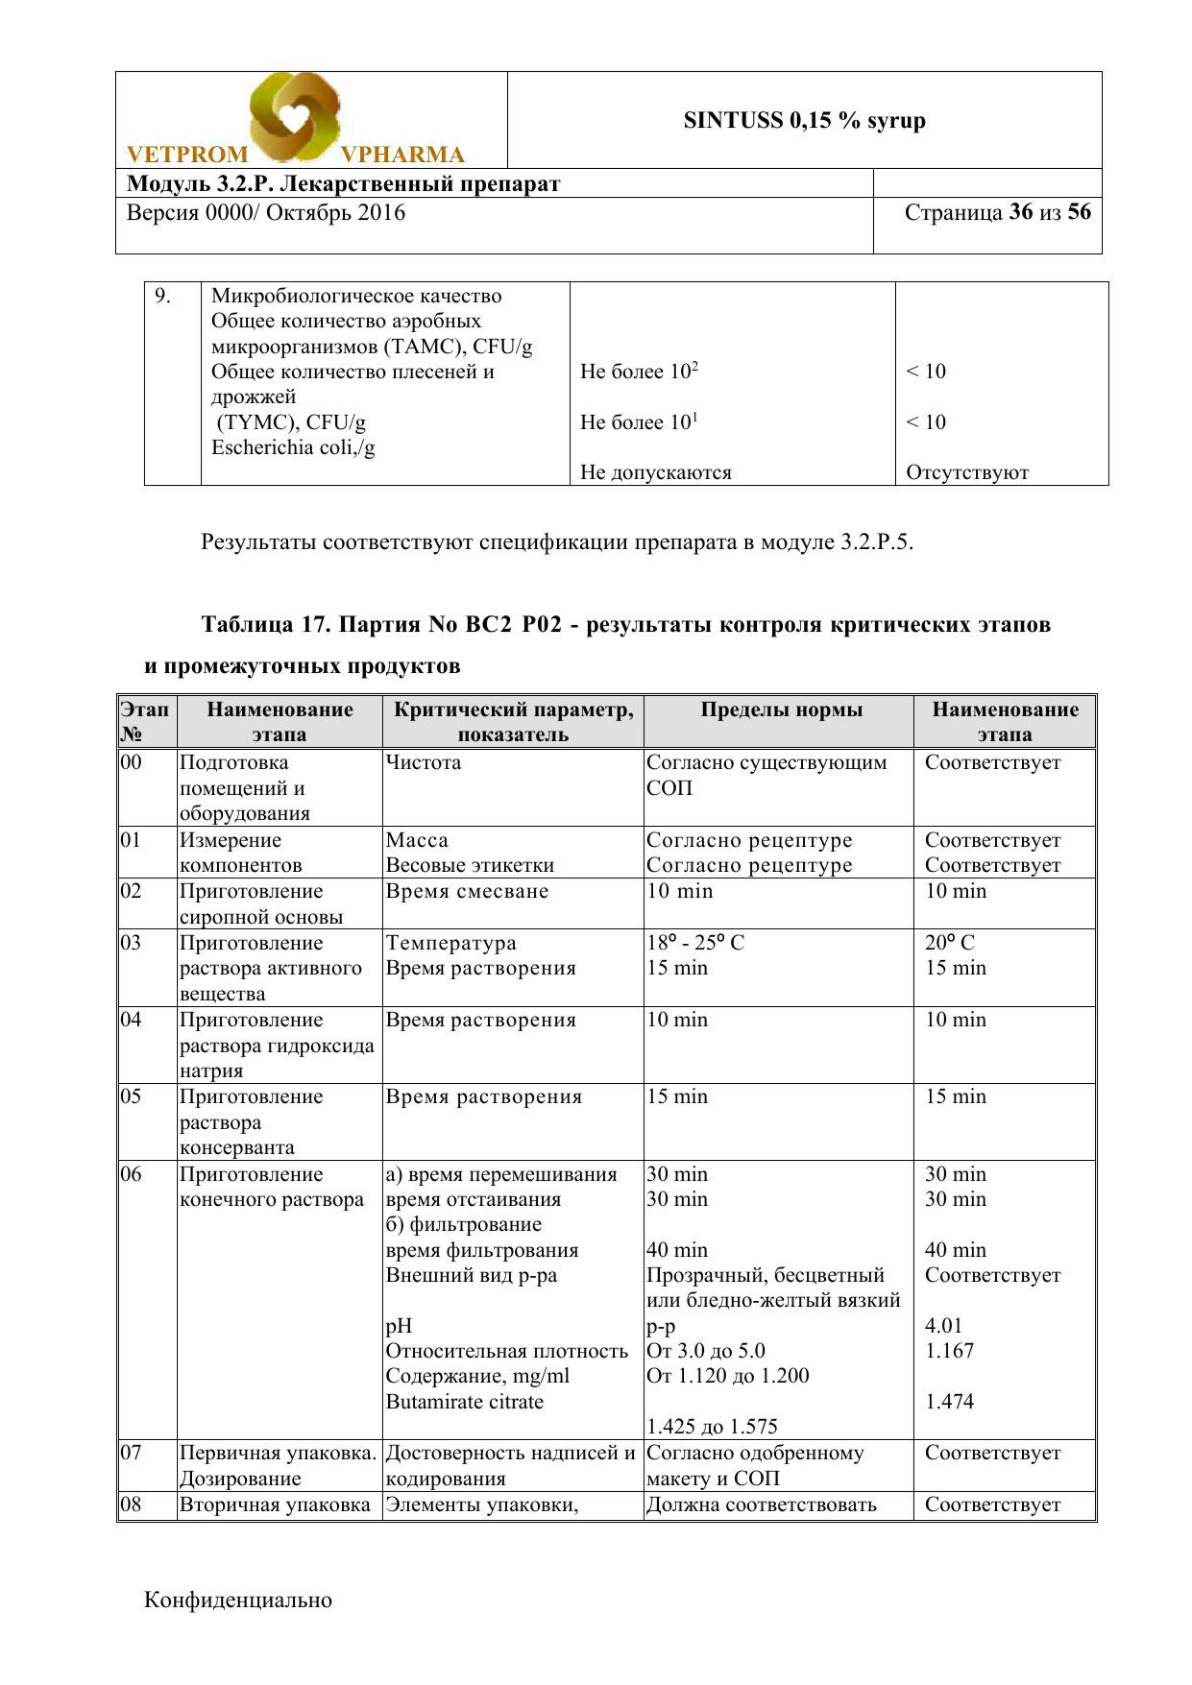full_lined: (115, 692, 1098, 1524)
merged_cells: (114, 70, 1103, 255)
partial_lined: (144, 281, 1109, 486)
